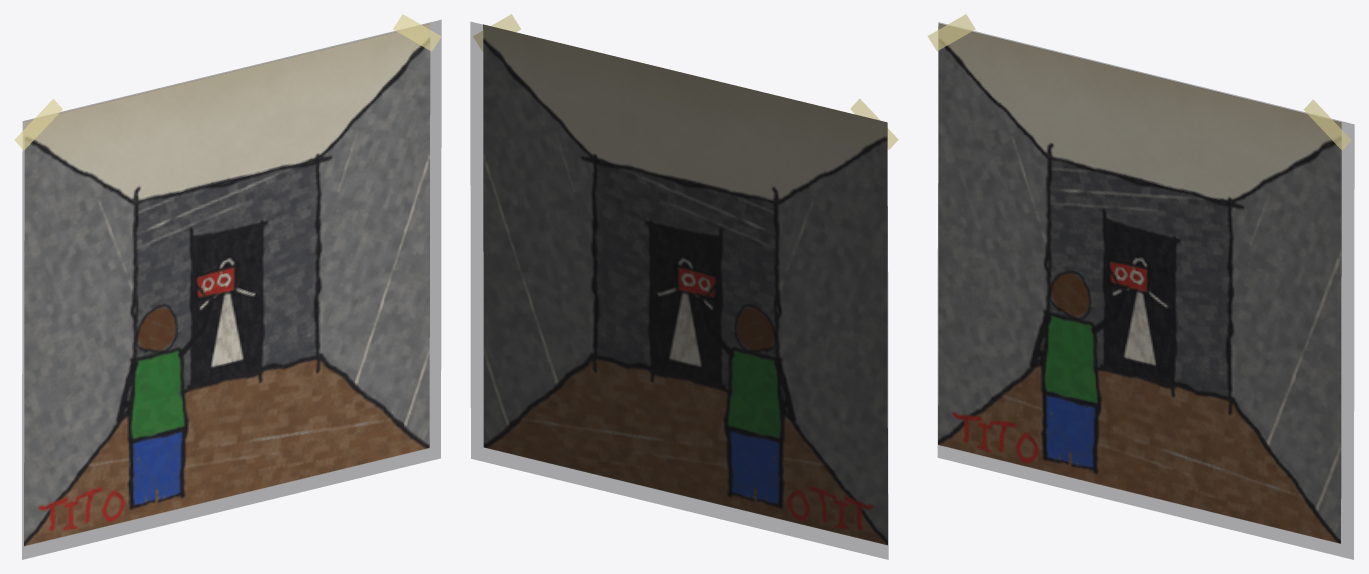
The model's file is desenho_7.glb.
3 renders of one model, left to right at view 1: azimuth 30°, elevation 25°; view 2: azimuth 150°, elevation 25°; view 3: azimuth 330°, elevation 25°, orthographic.
Parts seen in each view (by area): view 1: _MeshInstance3D_3063_2, _MeshInstance3D_3062_3, _MeshInstance3D_3065_0, _MeshInstance3D_3064_1; view 2: _MeshInstance3D_3062_3, _MeshInstance3D_3063_2; view 3: _MeshInstance3D_3063_2, _MeshInstance3D_3062_3, _MeshInstance3D_3065_0, _MeshInstance3D_3064_1.
Boxes of the visible parts, x1=… form: _MeshInstance3D_3063_2: x1=24, y1=23, x2=430, y2=546; _MeshInstance3D_3062_3: x1=22, y1=20, x2=441, y2=559; _MeshInstance3D_3065_0: x1=393, y1=14, x2=441, y2=51; _MeshInstance3D_3064_1: x1=14, y1=99, x2=62, y2=150; _MeshInstance3D_3062_3: x1=470, y1=22, x2=888, y2=559; _MeshInstance3D_3063_2: x1=483, y1=24, x2=887, y2=545; _MeshInstance3D_3063_2: x1=938, y1=23, x2=1341, y2=543; _MeshInstance3D_3062_3: x1=938, y1=22, x2=1354, y2=559; _MeshInstance3D_3065_0: x1=1303, y1=99, x2=1351, y2=150; _MeshInstance3D_3064_1: x1=927, y1=14, x2=975, y2=51.
Bounding box in the file's own units: 0.9512 × 0.966 × 0.005.
3 materials, 1 textured.
